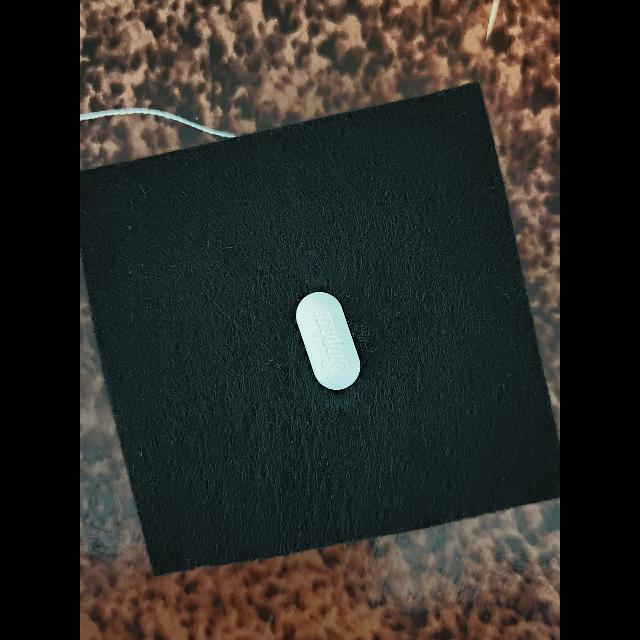Intact Pill: (295, 291, 361, 391)
